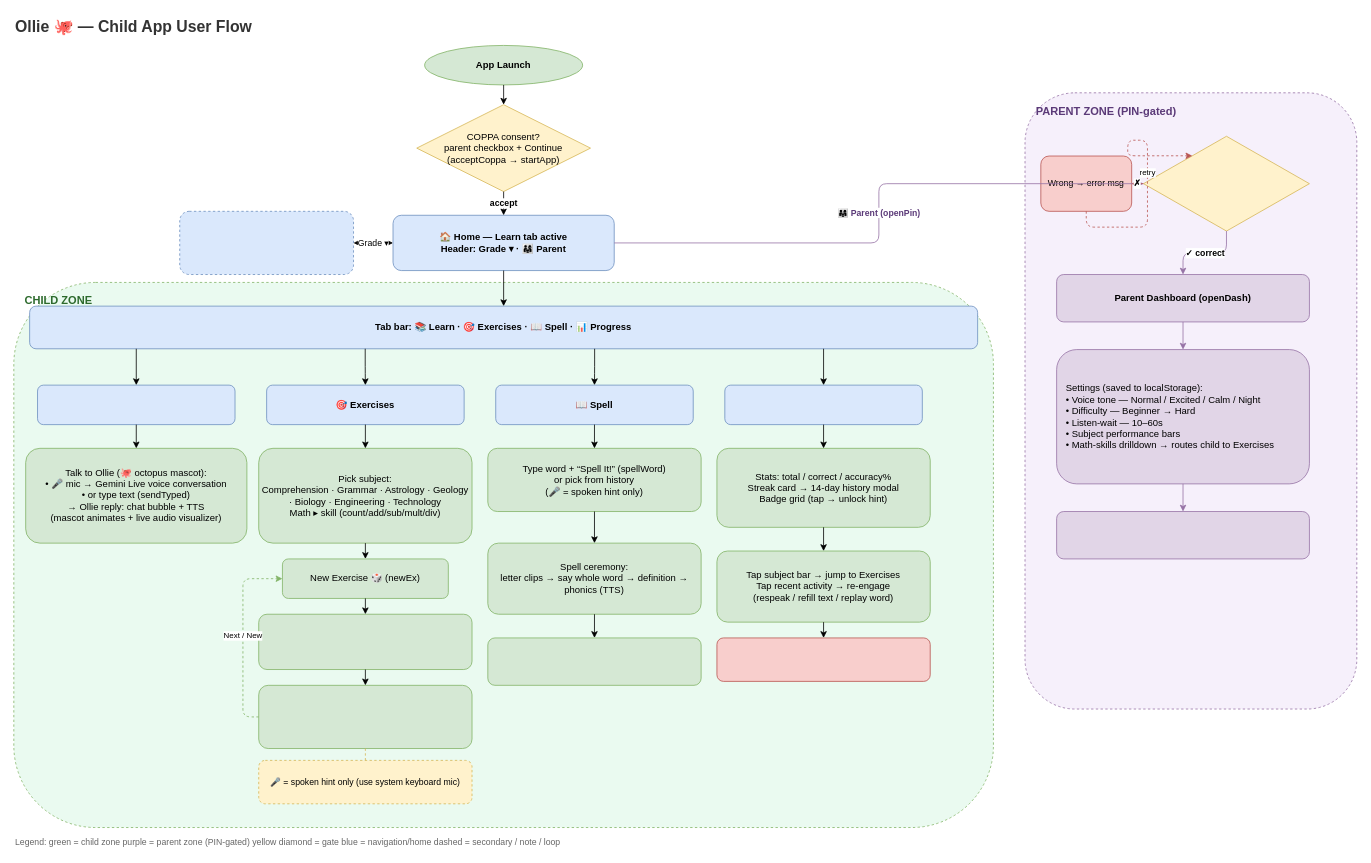
This 1371x863 diagram has some shape labels left out. Each missing label, with the centre of its shape:
"Change PIN (openChgPin → saveChgPin)" belongs at point 1182,535.
"Grade selector modal (K–6) openGrade → pickGrade (resets chat history)" belongs at point 266,243.
"PIN correct? openPin → chkPin (SHA-256, default 1234)" belongs at point 1226,183.
"Recent-words history tiles (replay / delete)" belongs at point 594,661.
"Render one of: Multiple-choice / Fill-blank / Voice-answer" belongs at point 365,641.
"Submit → check (generous; phonetic OK) → feedback → badges/streak" belongs at point 365,717.
"↺ Reset Session (resetSess) clears scores & streak (confirm)" belongs at point 823,659.
"📊 Progress" belongs at point 823,404.
"📚 Learn" belongs at point 136,404.
